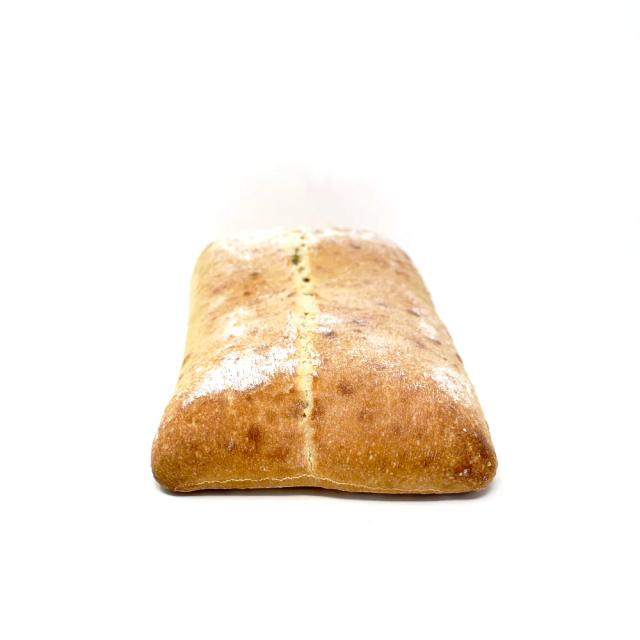Ciabatta: (152, 229, 497, 492)
